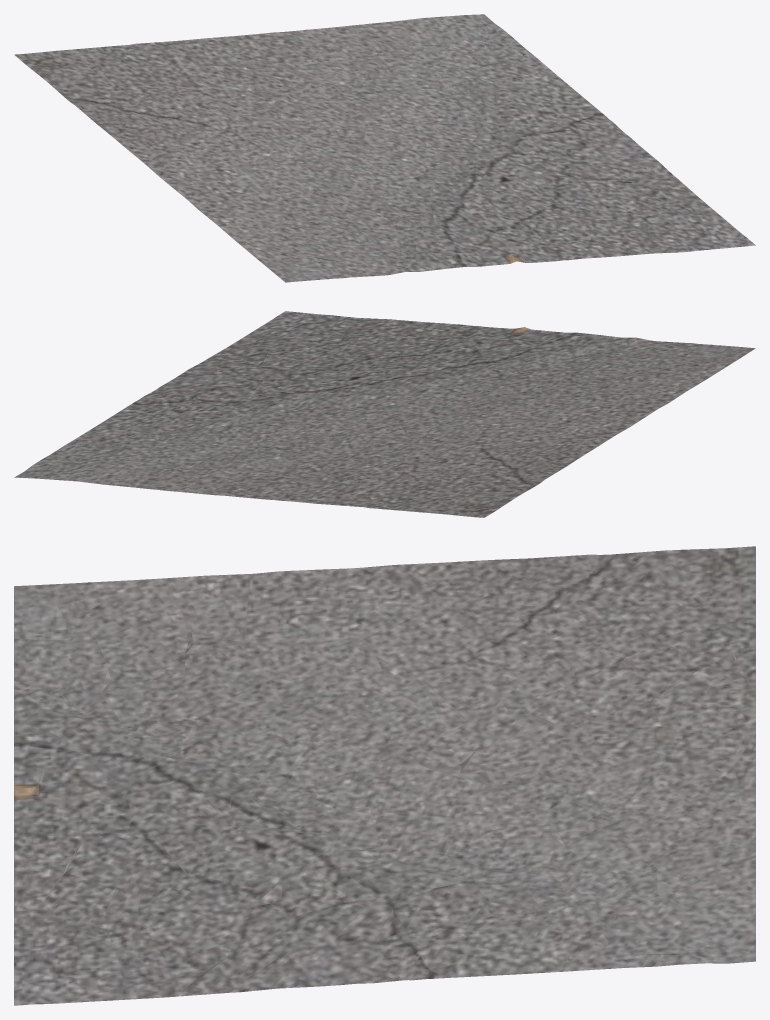
3 views of the same model, one above another, from view 1: azimuth 30°, elevation 25°; view 2: azimuth 150°, elevation 25°; view 3: azimuth 270°, elevation 25° (orthographic). The views are drawn at different scales.
Bounding box in the file's own units: 1.67 × 0.3635 × 1.67.
3 materials, 3 textured.
